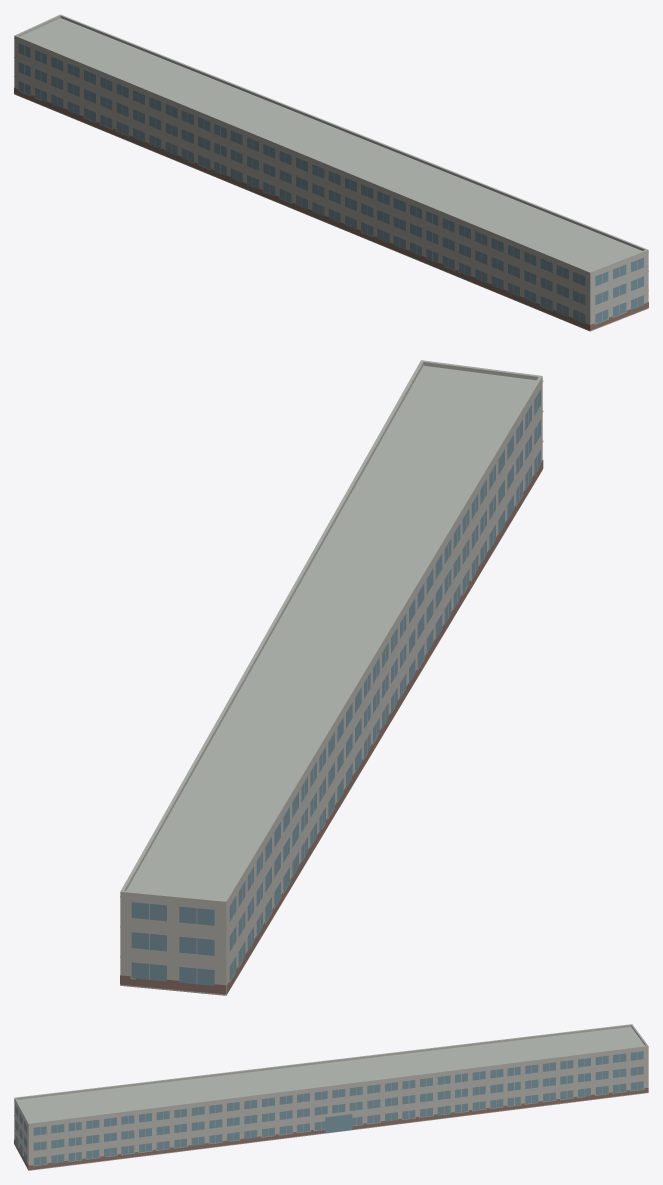
File: public-0ef5c2ad-39ab-4833-b549-e84438132f32.glb
3 renders of one model, top to bottom at view 1: azimuth 30°, elevation 25°; view 2: azimuth 150°, elevation 25°; view 3: azimuth 270°, elevation 25°, orthographic. The views are drawn at different scales.
Parts seen in each view (by area): view 1: public-0ef5c2ad-39ab-4833-b549-e84438132f32; view 2: public-0ef5c2ad-39ab-4833-b549-e84438132f32; view 3: public-0ef5c2ad-39ab-4833-b549-e84438132f32.
Part boxes in pixels (left/top/right/bottom): public-0ef5c2ad-39ab-4833-b549-e84438132f32: left=14, top=14, right=648, bottom=331; public-0ef5c2ad-39ab-4833-b549-e84438132f32: left=120, top=360, right=543, bottom=995; public-0ef5c2ad-39ab-4833-b549-e84438132f32: left=14, top=1024, right=648, bottom=1170.
Size of the model in its own units: 41.79 by 9.14 by 112.
